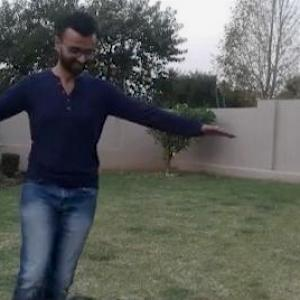land: (0, 32, 179, 294)
